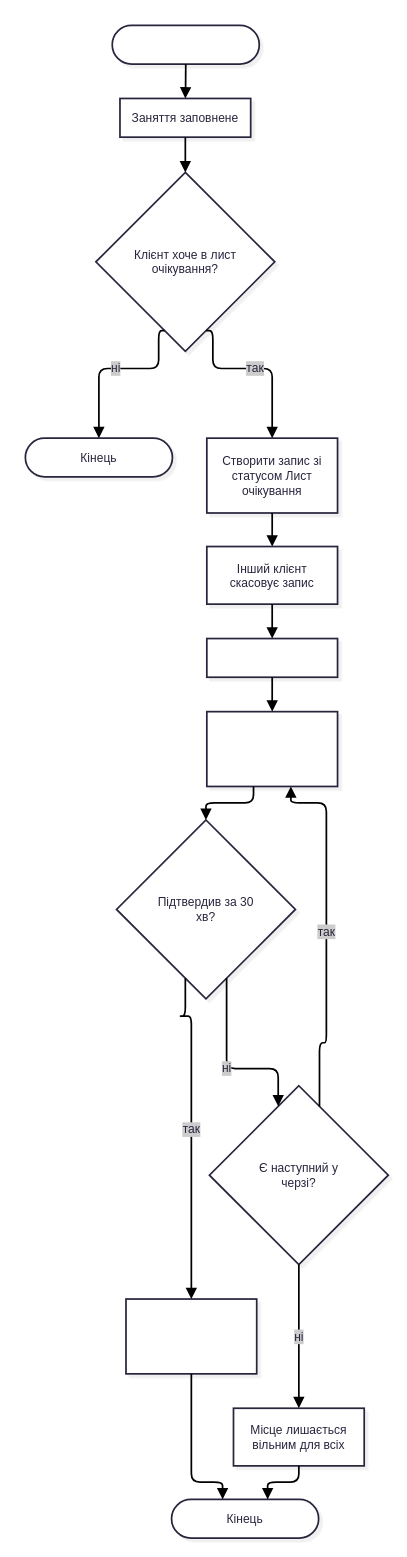
Image size: 407x1557. Some labels were removed from this diagram. Here are the shapes that lost their labels. From the top down, the centre of each, then its label:
At point 187,46: "Початок".
At point 273,659: "Місце звільнилось".
At point 273,750: "Перший у черзі отримує сповіщення".
At point 193,1338: "Статус Заброньовано, заняття закріплено".
